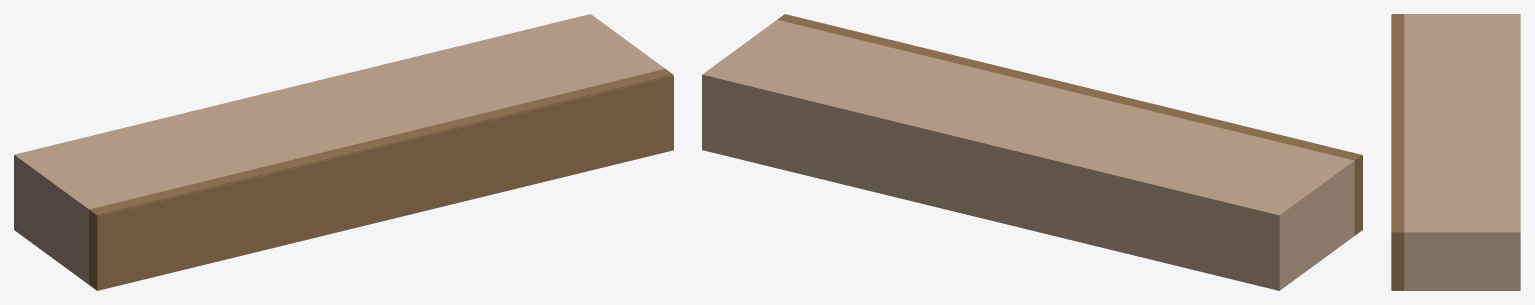
File: entrance_step.glb
3 renders of one model, left to right at view 1: azimuth 30°, elevation 25°; view 2: azimuth 150°, elevation 25°; view 3: azimuth 270°, elevation 25°, orthographic. The views are drawn at different scales.
Visible parts, largest first — view 1: frame_face, top_surface, left_side; view 2: top_surface, back_face, left_side, frame_face, right_side; view 3: top_surface, right_side, frame_face.
Part boxes in pixels (x1,y1,x2,y2): frame_face: (89, 69, 673, 290); top_surface: (14, 14, 664, 214); left_side: (14, 161, 88, 284); top_surface: (702, 19, 1354, 221); back_face: (710, 83, 1270, 288); left_side: (1271, 167, 1354, 290); frame_face: (777, 14, 1362, 235); right_side: (702, 80, 710, 151); top_surface: (1404, 14, 1520, 236); right_side: (1404, 237, 1520, 290); frame_face: (1391, 14, 1404, 290).
Size of the model in its own units: 1.2 by 0.15 by 0.3.
